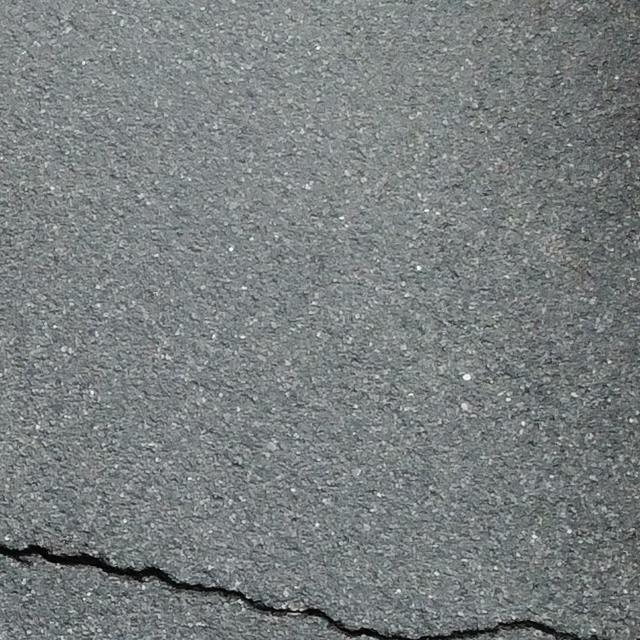TransverseCrack: (1, 541, 579, 640)
